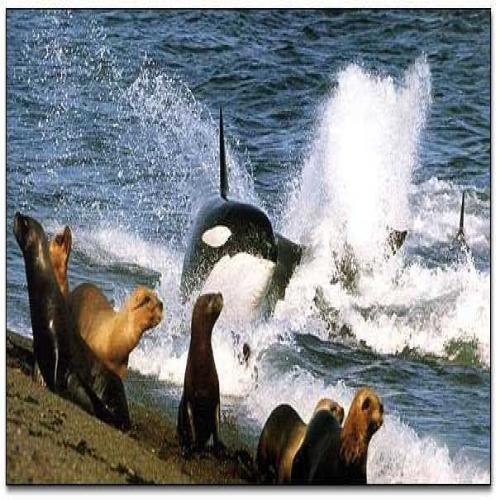killer_whale-endangered: (162, 107, 297, 351)
